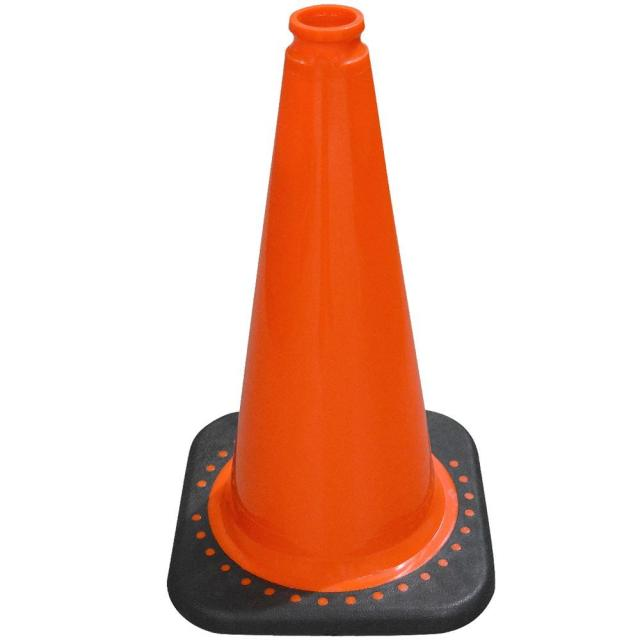traffic cone: (155, 2, 505, 640)
